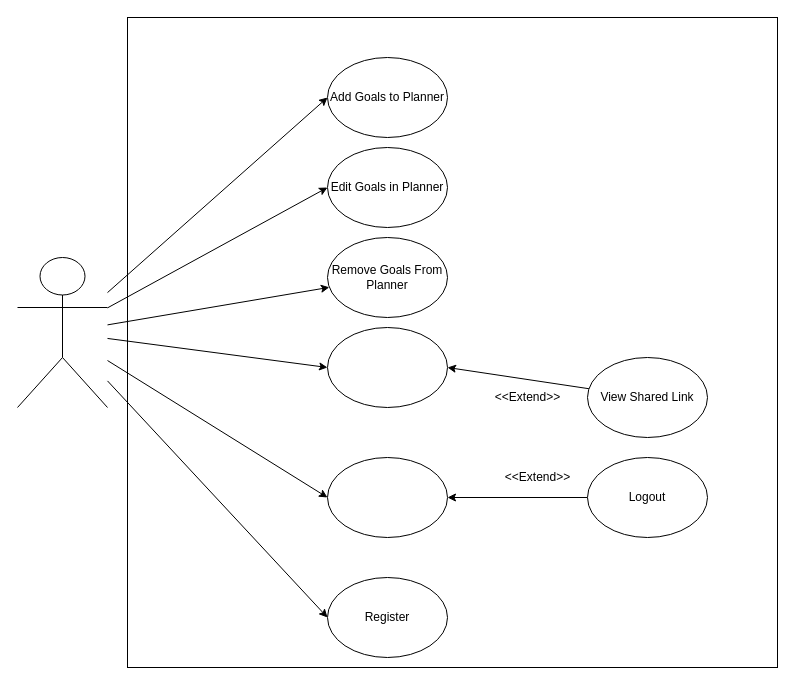
This 795x685 diagram has some shape labels left out. The shapes that lost their labels are listed below. From the top down, each one's centre as x and y in pixels, then its label:
At point (62, 332): "User".
At point (387, 367): "Share Planner".
At point (387, 497): "Login".
